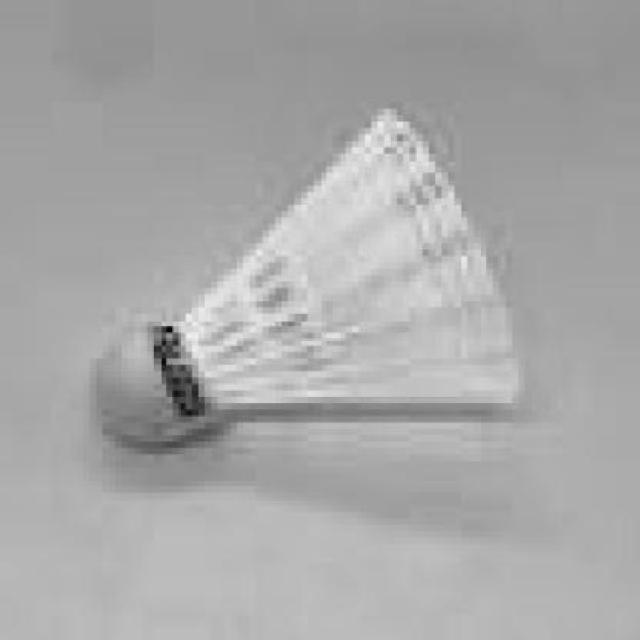Shuttlecock: (94, 103, 526, 446)
